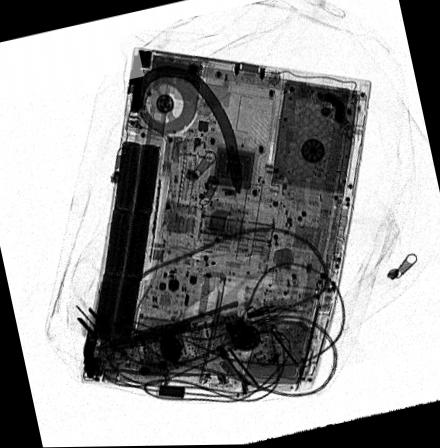Scissors: (90, 268, 281, 356)
